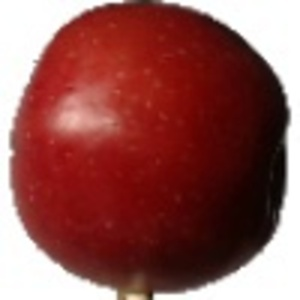maçã braeburn: (8, 1, 292, 296)
